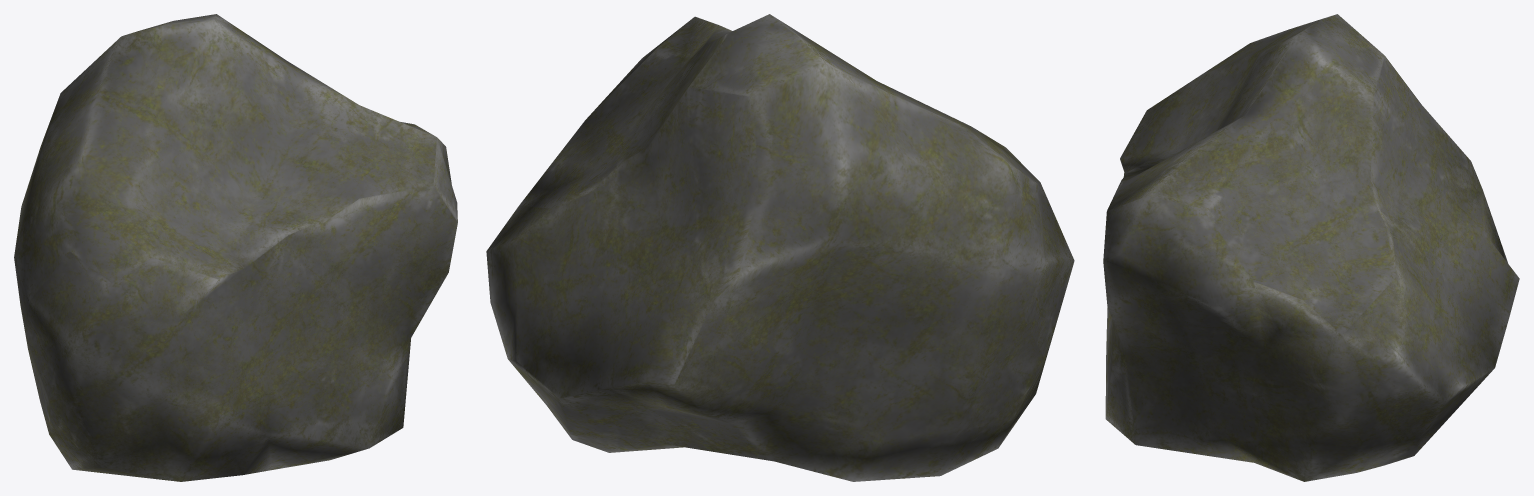
The model's file is ROK0110011.fbx.
3 views of the same model, side by side, from view 1: azimuth 30°, elevation 25°; view 2: azimuth 150°, elevation 25°; view 3: azimuth 270°, elevation 25° (orthographic). The views are drawn at different scales.
Parts seen in each view (by area): view 1: smROK0110011; view 2: smROK0110011; view 3: smROK0110011.
Part boxes in pixels (x1,y1,x2,y2): smROK0110011: [14, 14, 457, 481]; smROK0110011: [486, 14, 1074, 481]; smROK0110011: [1103, 14, 1519, 481].
Size of the model in its own units: 206 by 182 by 180.
1 material, 1 textured.
